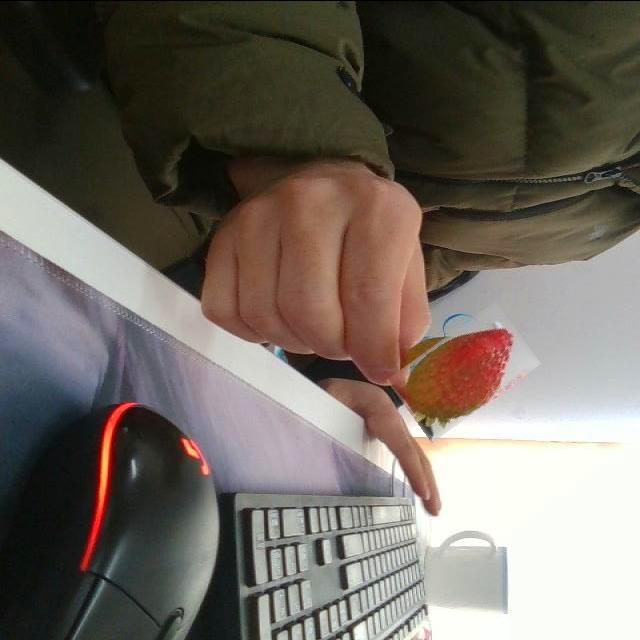strawberry: (392, 316, 537, 426)
